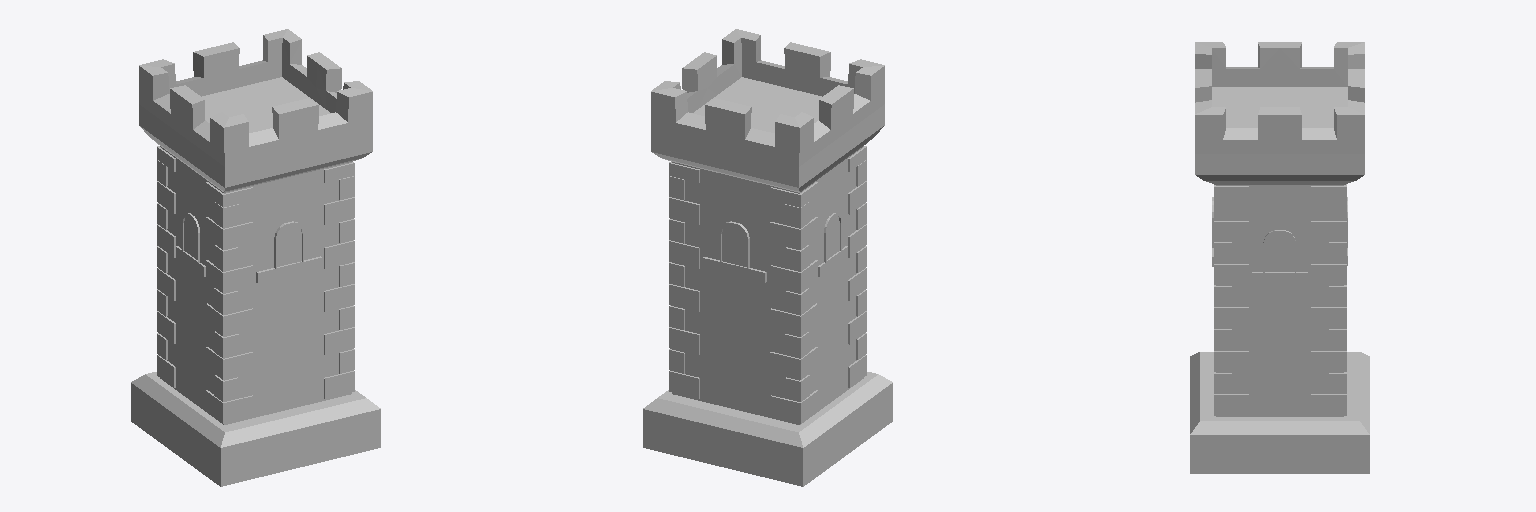
File: castle.obj
3 views of the same model, side by side, from view 1: azimuth 30°, elevation 25°; view 2: azimuth 150°, elevation 25°; view 3: azimuth 270°, elevation 25° (orthographic).
Parts seen in each view (by area): view 1: tower_Cube.002; view 2: tower_Cube.002; view 3: tower_Cube.002.
Boxes of the visible parts, <box> form: tower_Cube.002: <box>131,29,380,486</box>; tower_Cube.002: <box>643,29,892,486</box>; tower_Cube.002: <box>1190,42,1369,473</box>.
Size of the model in its own units: 2.07 by 4.39 by 2.